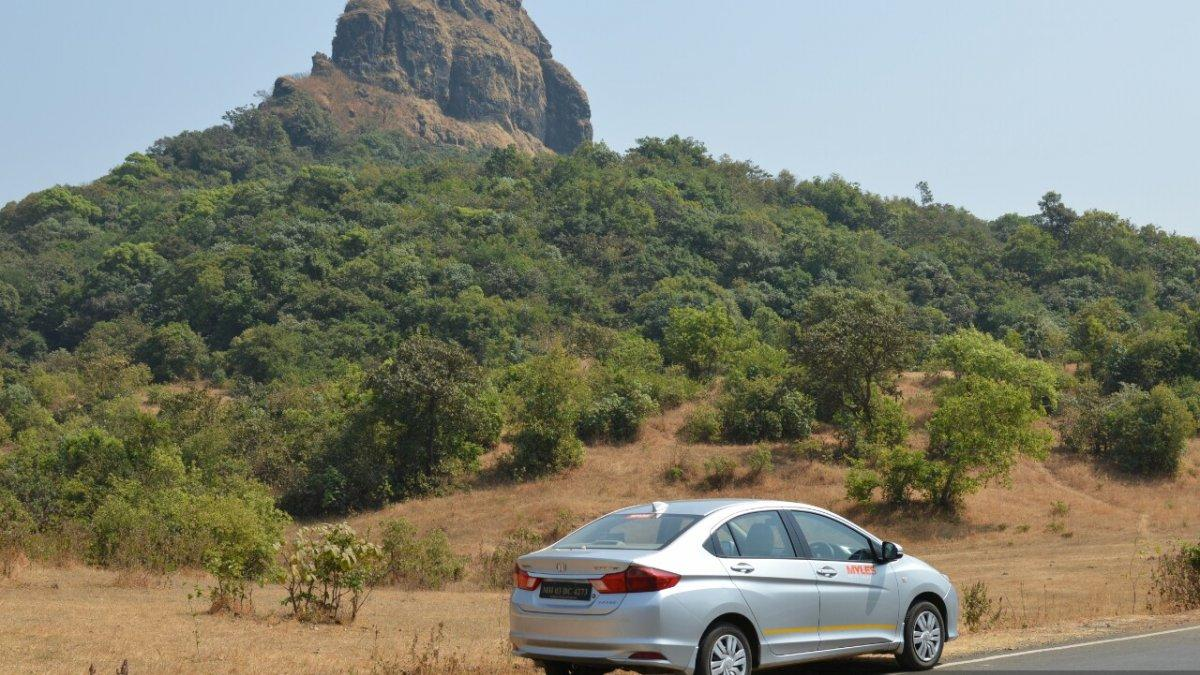car: (449, 454, 976, 675)
